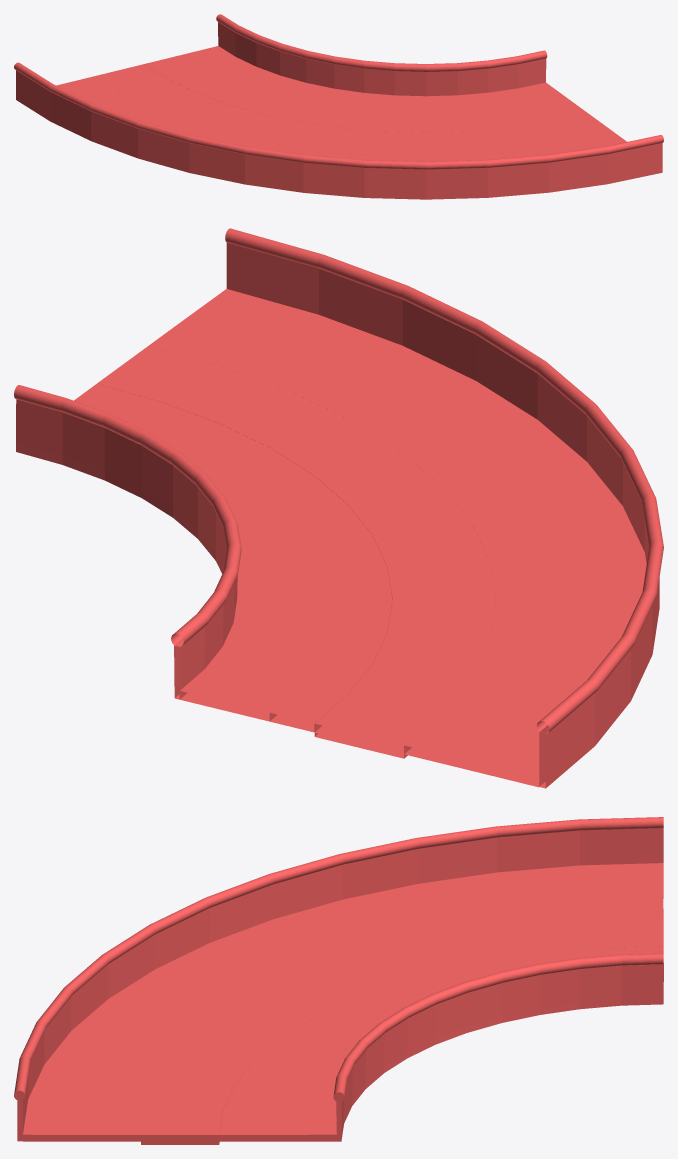
Rendered from trackpiece-curve-90-placed.glb.
The picture shows the model from 3 angles, top to bottom: view 1: azimuth 30°, elevation 25°; view 2: azimuth 150°, elevation 25°; view 3: azimuth 270°, elevation 25°; orthographic projection. The views are drawn at different scales.
Parts seen in each view (by area): view 1: Track piece/short; view 2: Track piece/short; view 3: Track piece/short.
Boxes of the visible parts, x1=… form: Track piece/short: x1=14, y1=14, x2=663, y2=199; Track piece/short: x1=14, y1=228, x2=663, y2=788; Track piece/short: x1=14, y1=817, x2=663, y2=1144.
Bounding box in the file's own units: 16.45 × 1.51 × 16.4.
